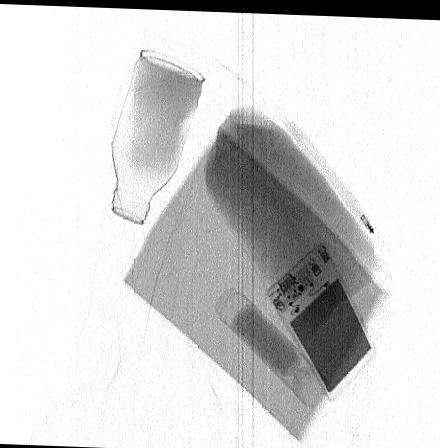Powerbank: (266, 241, 375, 397)
